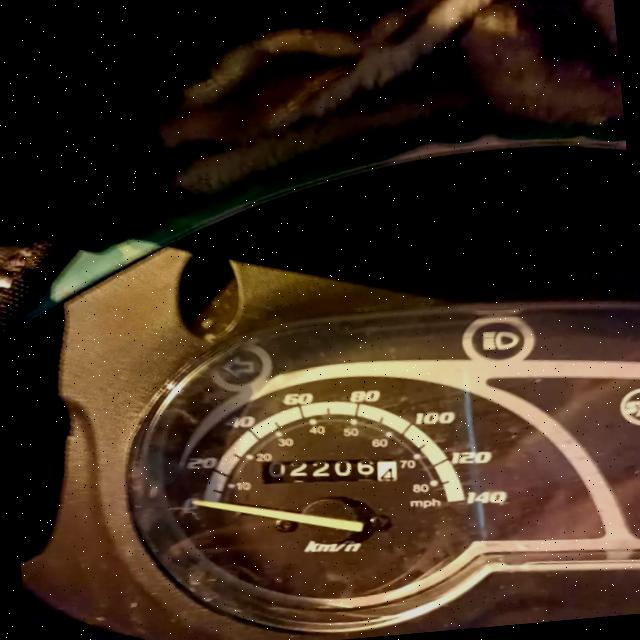odometer: (259, 448, 402, 495)
